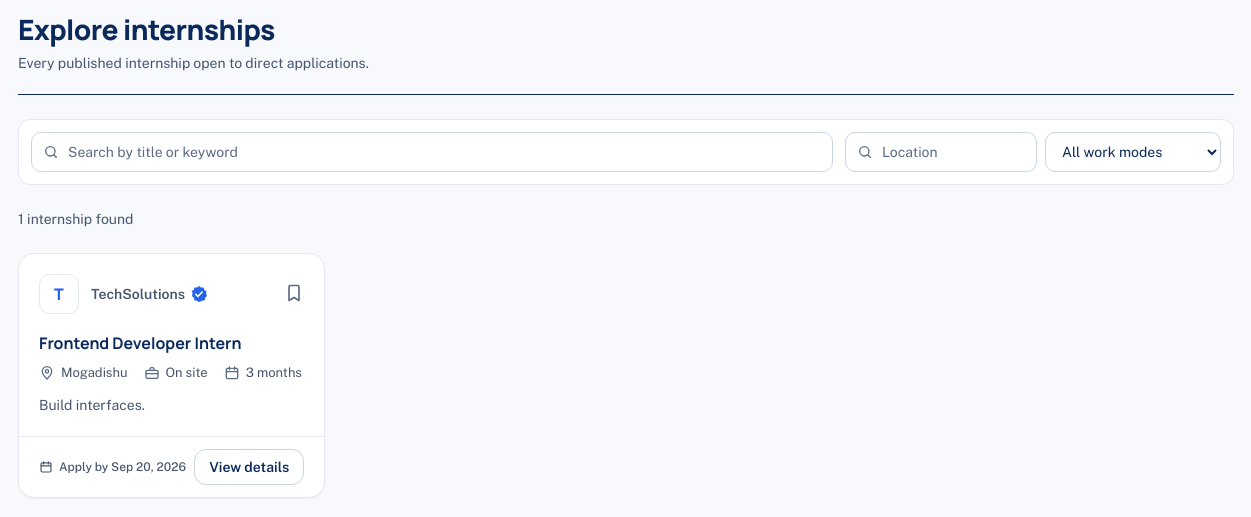
Test: Saved internships (Backend Phase B4) › bookmark on the discovery listing › saves an unsaved internship and flips the control
The width and height of the screenshot is (1251, 517).
What coordinates should you click on to do the following:
click the button named "Save internship"
I would click on:
 (294, 293)
Its box is [278,277,310,309].
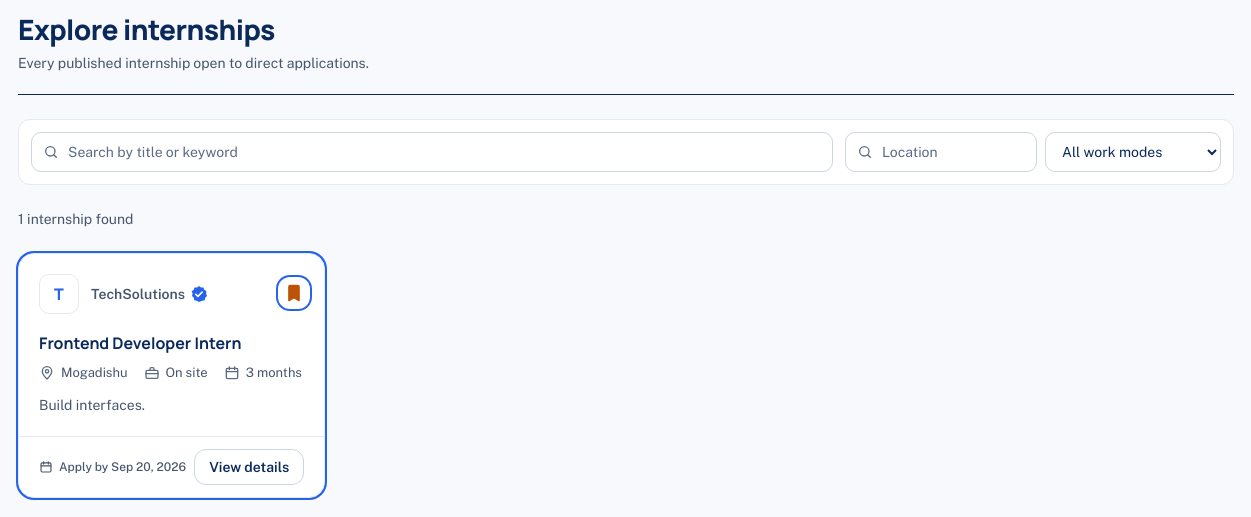
expect the button named "Remove from saved" is shown: met, box [278,277,310,309]
